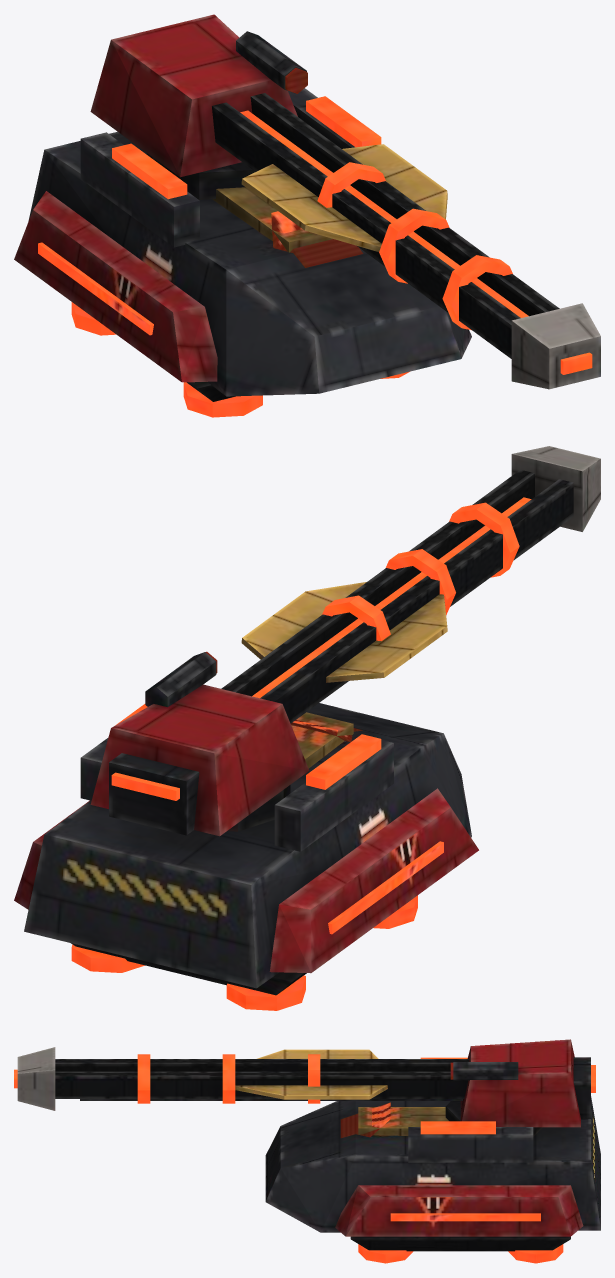
The model's file is u_lancer3_e.glb.
The picture shows the model from 3 angles, top to bottom: view 1: azimuth 30°, elevation 25°; view 2: azimuth 150°, elevation 25°; view 3: azimuth 270°, elevation 25°; orthographic projection. The views are drawn at different scales.
Parts seen in each view (by area): view 1: u_lancer3_e; view 2: u_lancer3_e; view 3: u_lancer3_e.
Boxes of the visible parts, left/top/right/bottom form: u_lancer3_e: left=14, top=14, right=600, bottom=417; u_lancer3_e: left=14, top=446, right=600, bottom=1010; u_lancer3_e: left=14, top=1039, right=600, bottom=1263.
Size of the model in its own units: 1.06 by 0.9125 by 2.71.
Materials: 1 (1 with a texture image).
